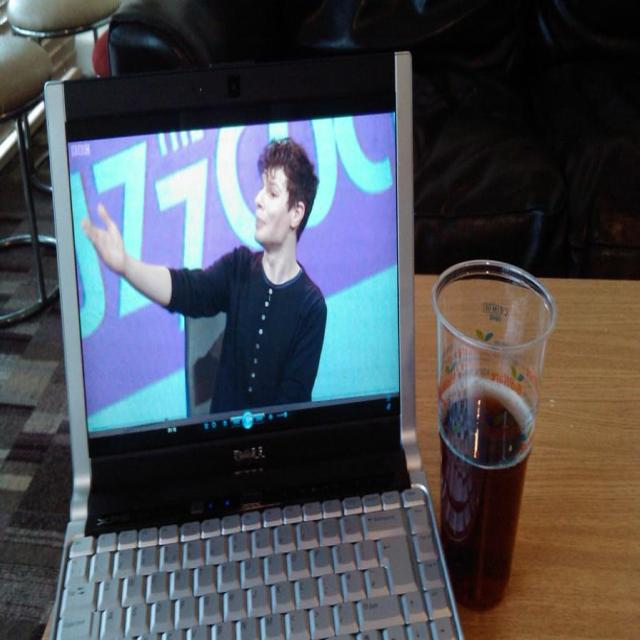glass: (436, 263, 555, 606)
laptop: (43, 50, 457, 640)
